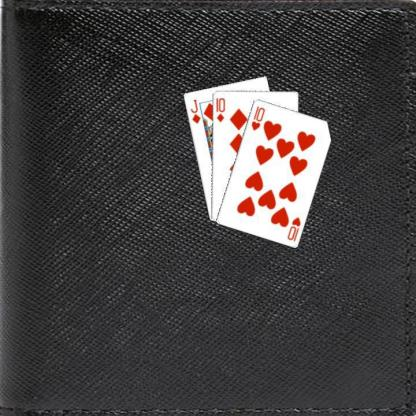10D: (213, 95, 226, 123)
10H: (248, 103, 266, 132), (284, 214, 302, 242)
JD: (188, 96, 202, 125)
